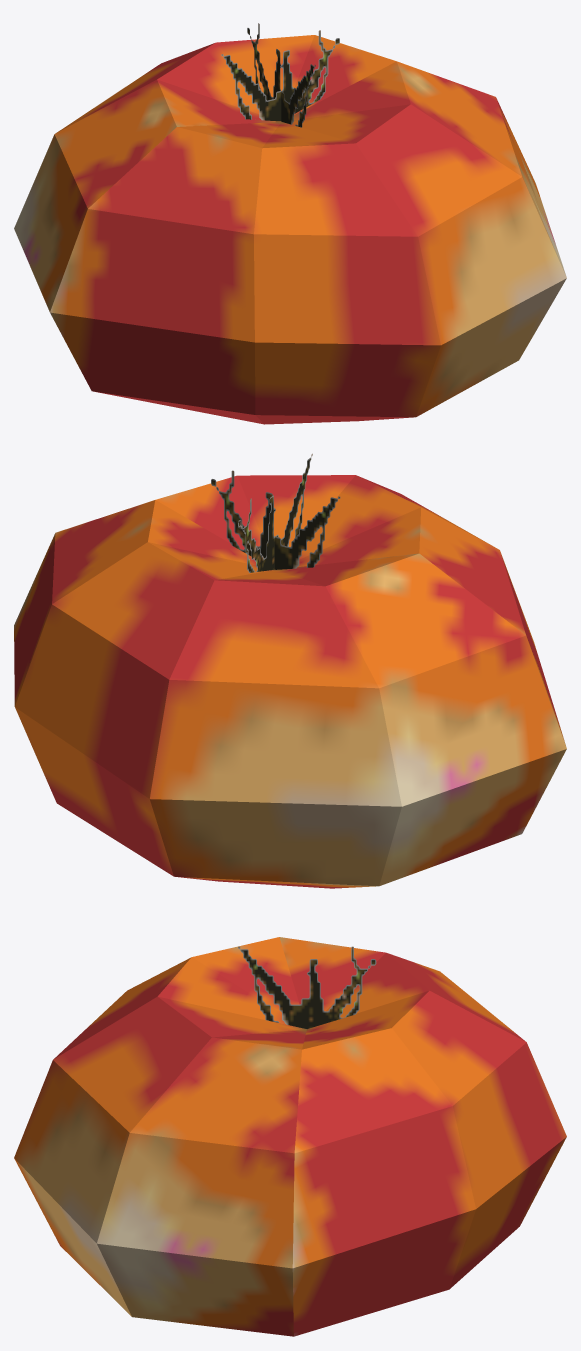
Rendered from SM_Dungeon_Food_Tomato.fbx.
3 views of the same model, one above another, from view 1: azimuth 30°, elevation 25°; view 2: azimuth 150°, elevation 25°; view 3: azimuth 270°, elevation 25° (orthographic). The views are drawn at different scales.
Parts seen in each view (by area): view 1: SM_Dungeon_Food_Tomato; view 2: SM_Dungeon_Food_Tomato; view 3: SM_Dungeon_Food_Tomato.
Part boxes in pixels (box(x1,y1,x2,y2)): SM_Dungeon_Food_Tomato: box(14, 23, 566, 424); SM_Dungeon_Food_Tomato: box(14, 453, 566, 888); SM_Dungeon_Food_Tomato: box(14, 937, 566, 1336).
Bounding box in the file's own units: 24.55 × 15.54 × 23.47.
